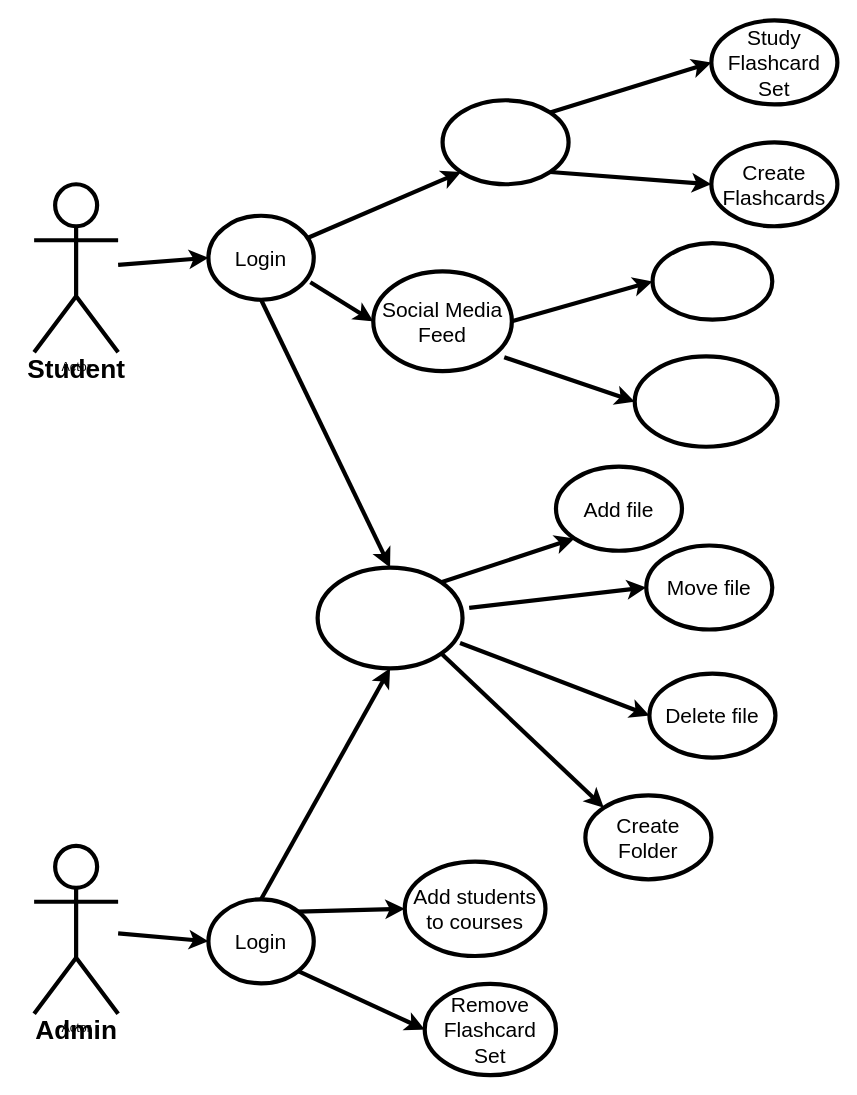
Image size: 857x1095. Some labels were removed from this diagram. The shapes that lost their labels are listed below. From the top down, each one's centre as x and y in pixels, then its label:
At point 505,142: "View Flashcards".
At point 712,280: "Make Post".
At point 705,401: "Like/Reply to Post".
At point 389,617: "File Organization Screen".
